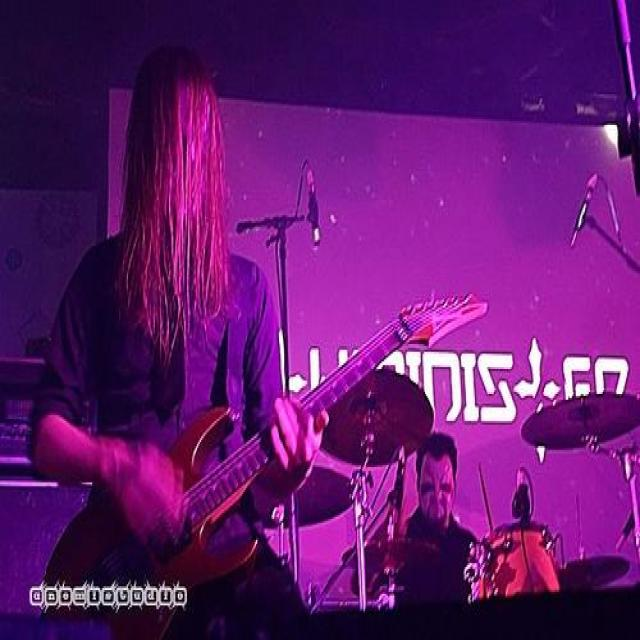No_Gloves: (120, 441, 192, 541), (265, 383, 329, 492)
